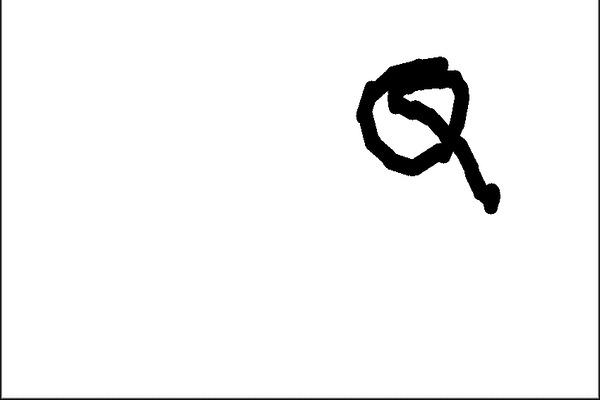Q: (346, 39, 506, 218)
